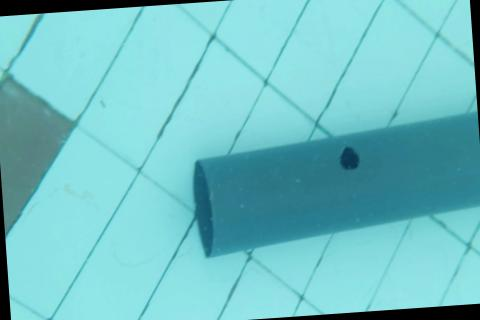kebocoran: (338, 145, 362, 172)
